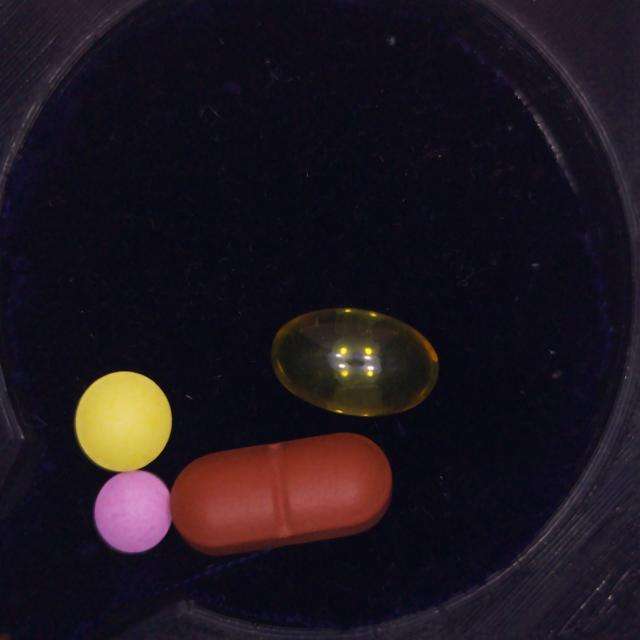Pill: (170, 434, 392, 555), (272, 309, 439, 416), (74, 371, 172, 472), (94, 470, 172, 553)
